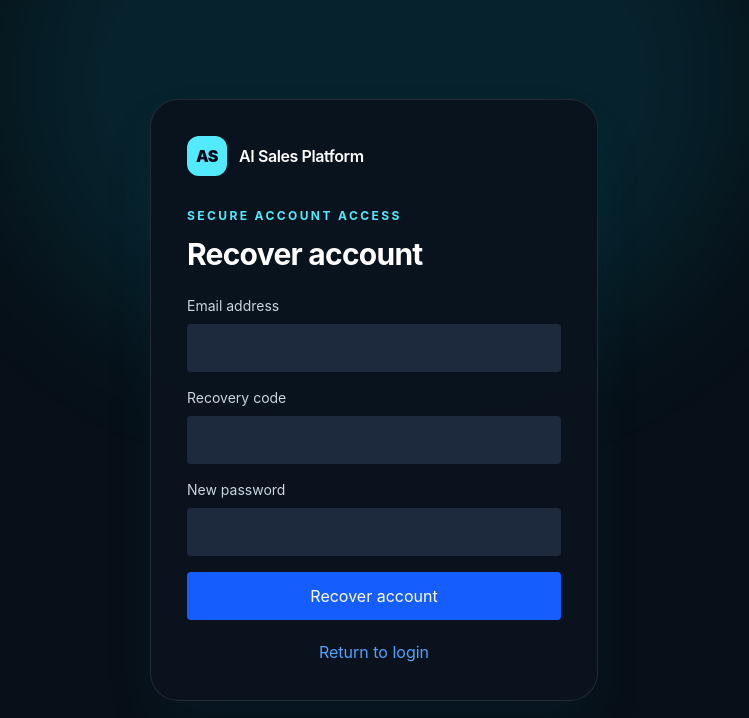
Scenario: account lifecycle pages › recovers an account with a backup code
Step 1. Type "sales@example.com" into the field labelled "Email address" → coordinates (374, 348), box [187, 324, 561, 372]
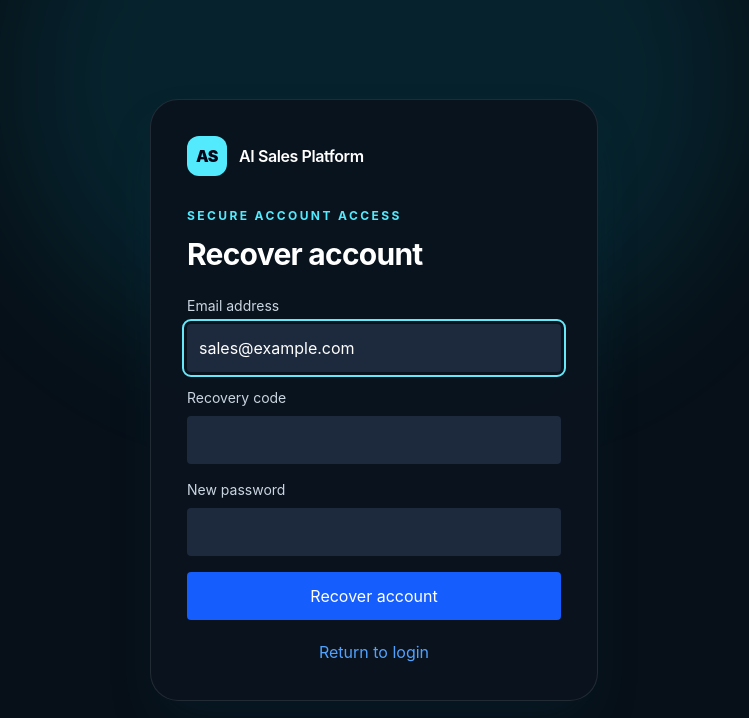
Step 2. Type "AAAAA-BBBBB-CCCCC-DDDDD" into the field labelled "Recovery code" → coordinates (374, 440), box [187, 416, 561, 464]
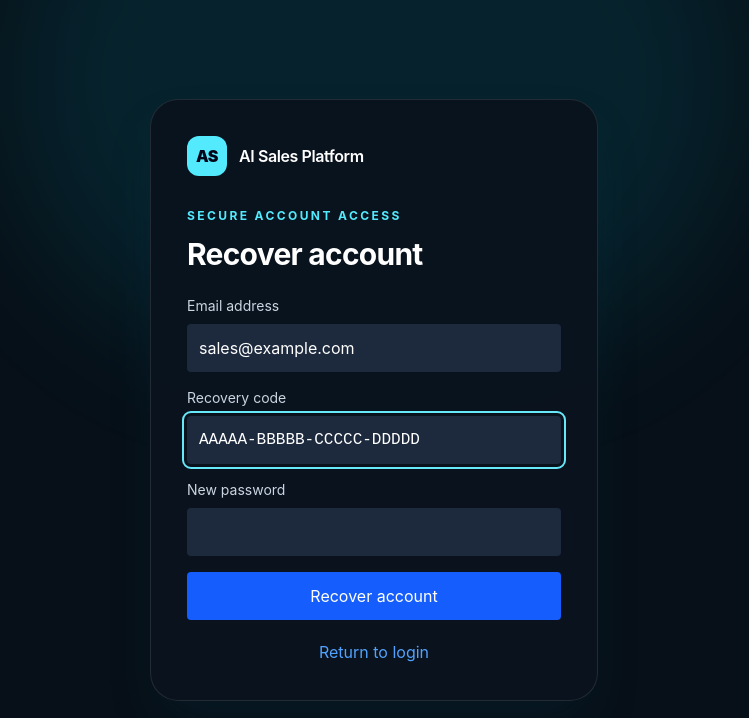
Step 3. Type "another-secure-password" into the password field labelled "New password" → coordinates (374, 532), box [187, 508, 561, 556]
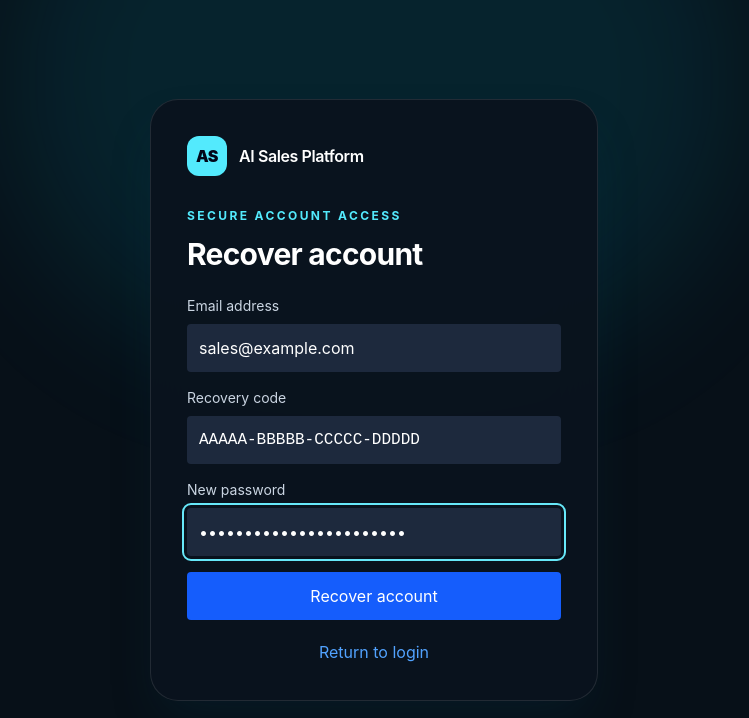
Step 4. Click the button "Recover account" → coordinates (374, 596), box [187, 572, 561, 620]
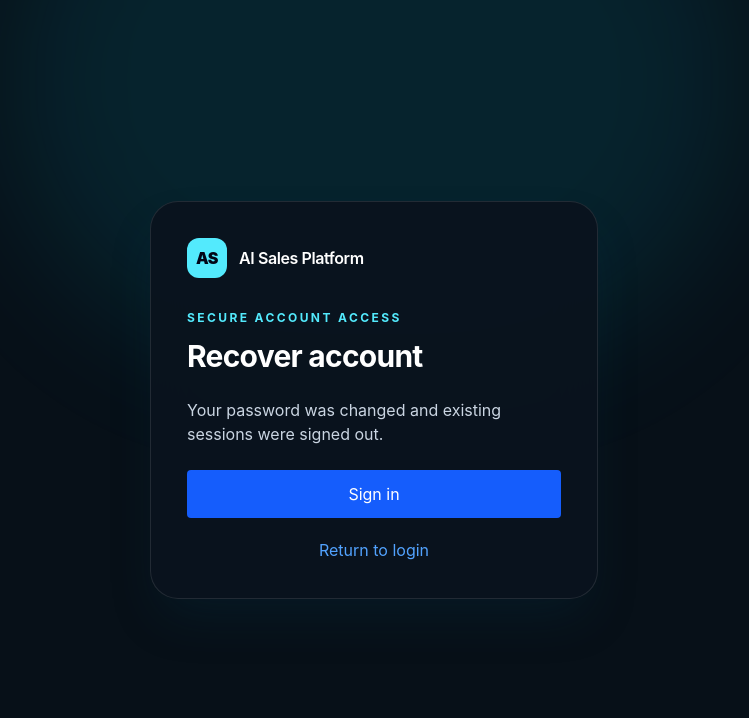
Expected: the heading "Recover account" is shown, [187, 338, 423, 374]
Expected: the message shows "existing sessions were signed out", [187, 400, 501, 444]
